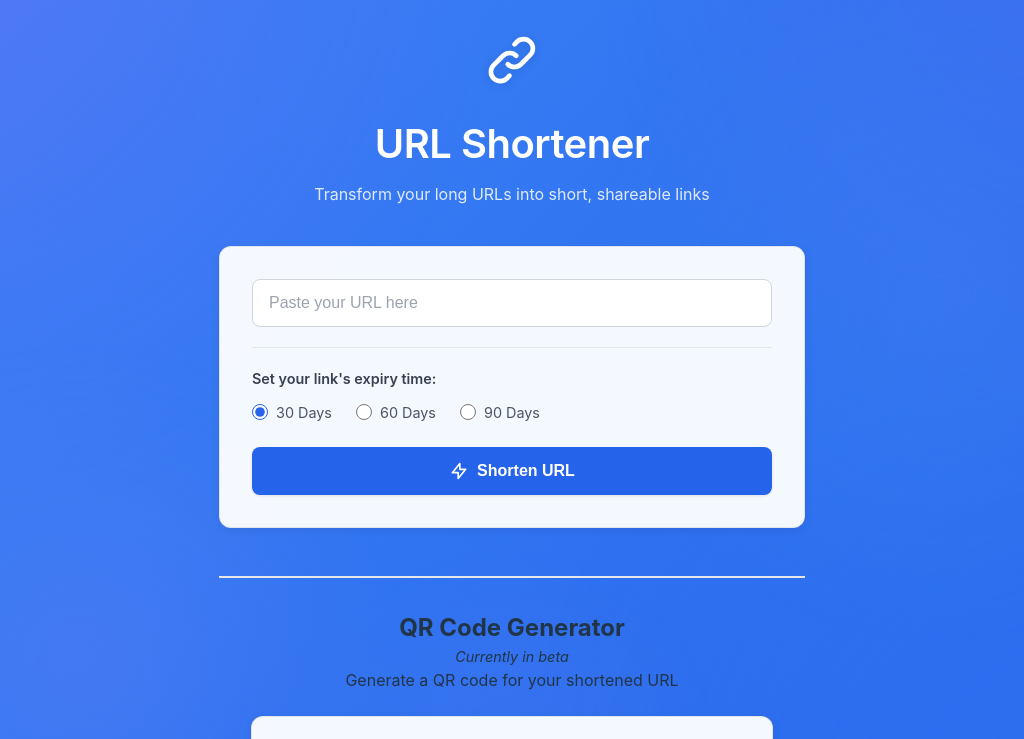
App Component › Error Handling › should display error when fetch fails
Type "https://example.com" into the field with placeholder "Paste your URL here" at x=512, y=303, box [252, 279, 772, 327]
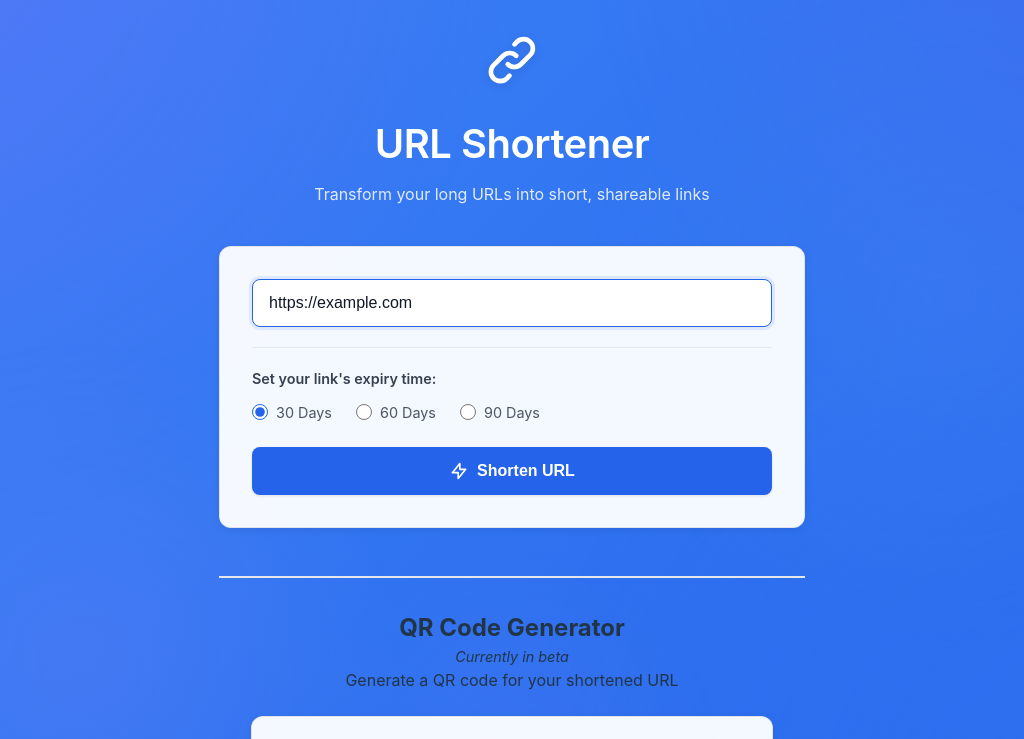
Click the button "Shorten URL" at x=512, y=471, box [252, 447, 772, 495]
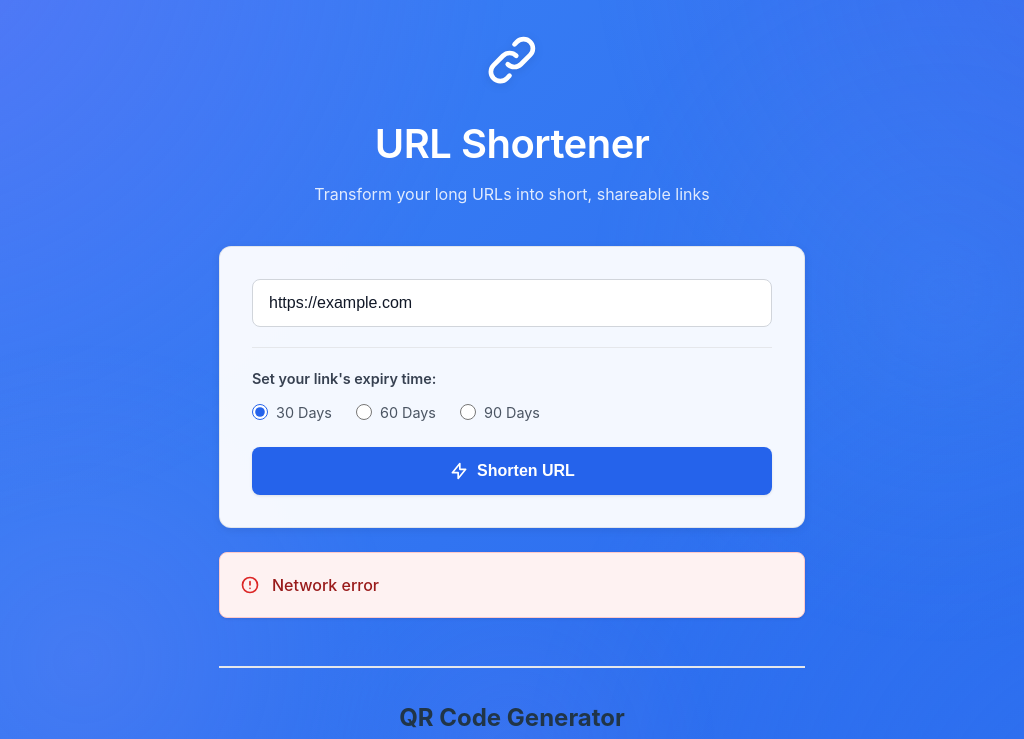
Check: the text "Network error" is shown, box [272, 573, 379, 597]
